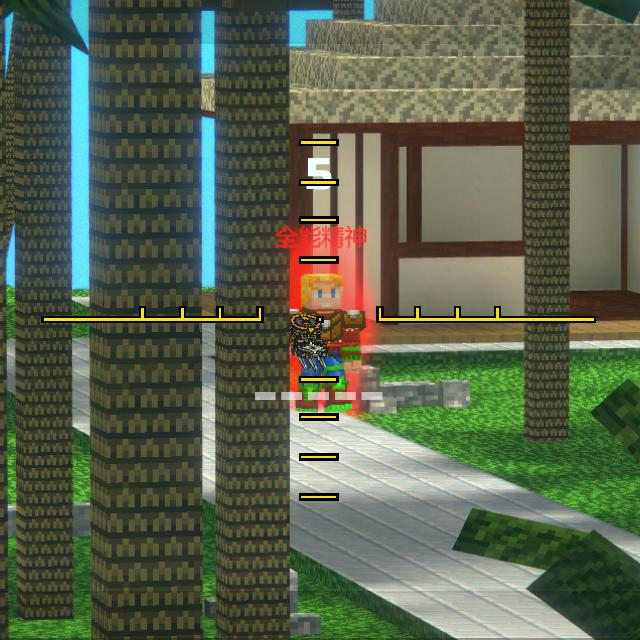Enemy: (290, 274, 367, 413)
